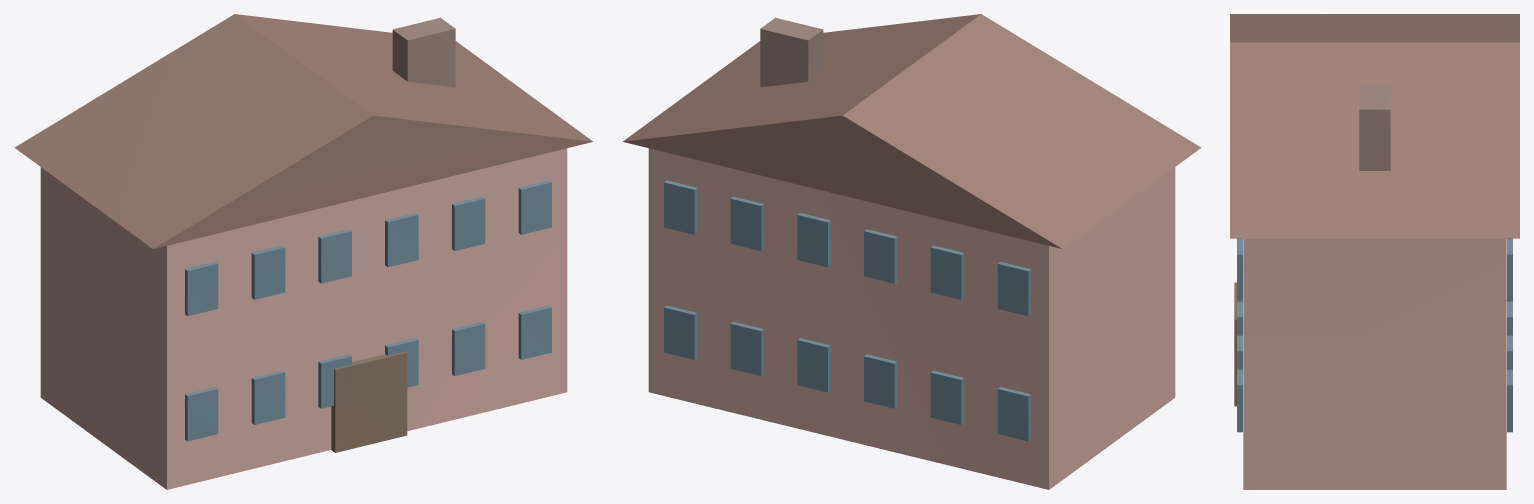
The model's file is barn-05.glb.
3 renders of one model, left to right at view 1: azimuth 30°, elevation 25°; view 2: azimuth 150°, elevation 25°; view 3: azimuth 270°, elevation 25°, orthographic. The views are drawn at different scales.
Parts seen in each view (by area): view 1: world; view 2: world; view 3: world.
Part boxes in pixels (bbox=[...]): world: bbox=[14, 14, 592, 489]; world: bbox=[623, 14, 1201, 489]; world: bbox=[1230, 14, 1519, 489].
Bounding box in the file's own units: 2.22 × 1.62 × 1.21.
